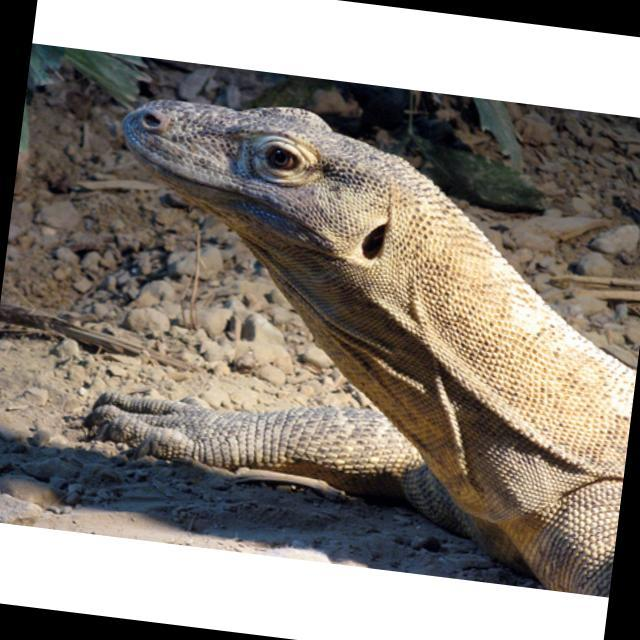KomodoDragon: (70, 83, 640, 595)
